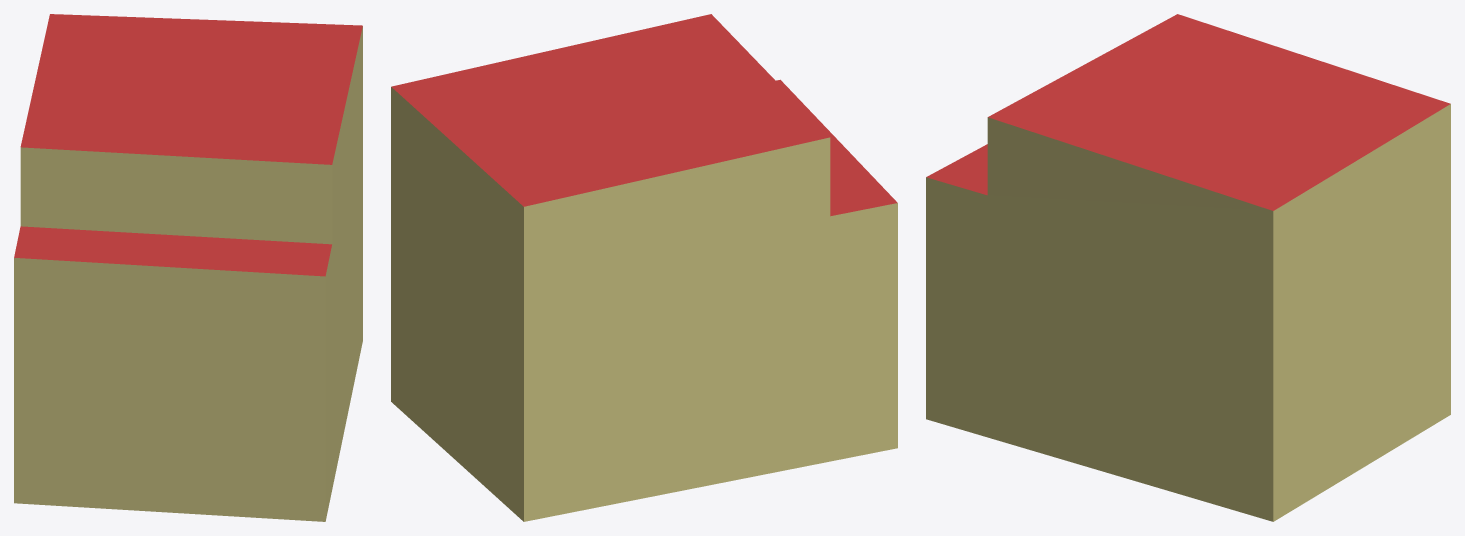
3 renders of one model, left to right at view 1: azimuth 30°, elevation 25°; view 2: azimuth 150°, elevation 25°; view 3: azimuth 270°, elevation 25°, orthographic.
Size of the model in its own units: 15.6 by 16.81 by 11.31.
